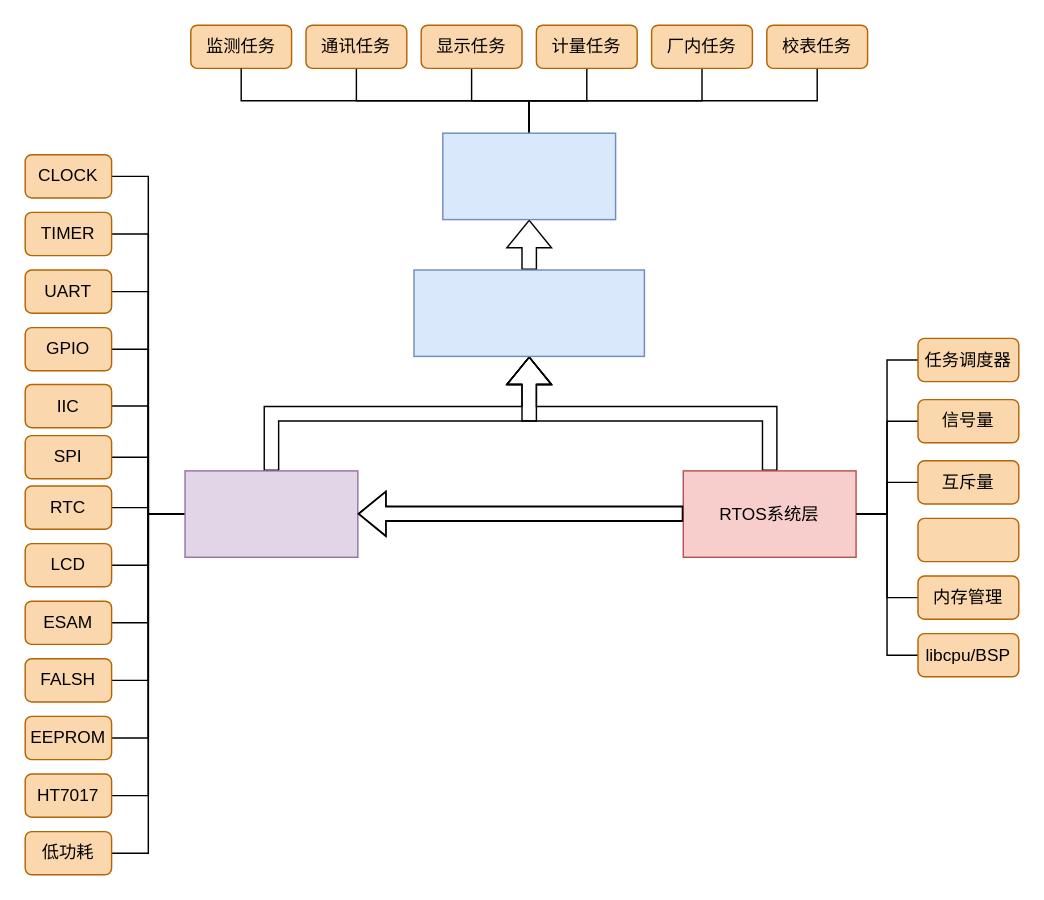
Image size: 1044x900. Some labels were removed from this diagram. Here are the shapes that lost their labels. From the top down, the centre of each, then its label:
the point at 528,176: 应用层
the point at 528,312: 中间层：645/698协议、事件冻结记录、参数与参变量、安全、数据转换等
the point at 271,513: 驱动层
the point at 968,539: 事件
